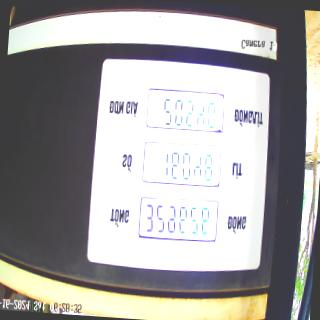screen: (134, 85, 228, 248)
